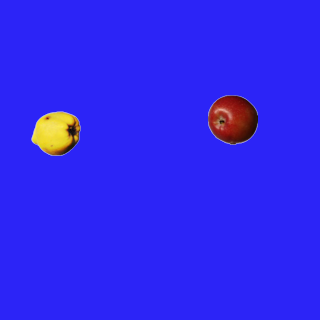Apple Braeburn: (207, 94, 257, 144)
Quince: (30, 108, 80, 158)
